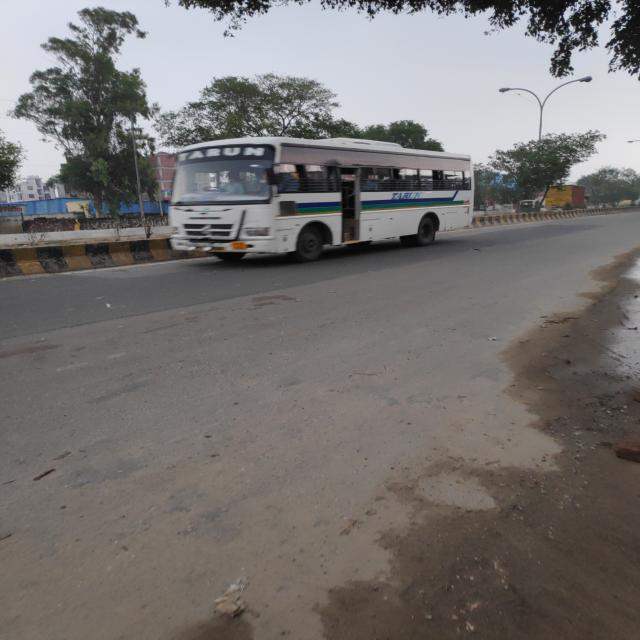Bus: (168, 138, 475, 261)
